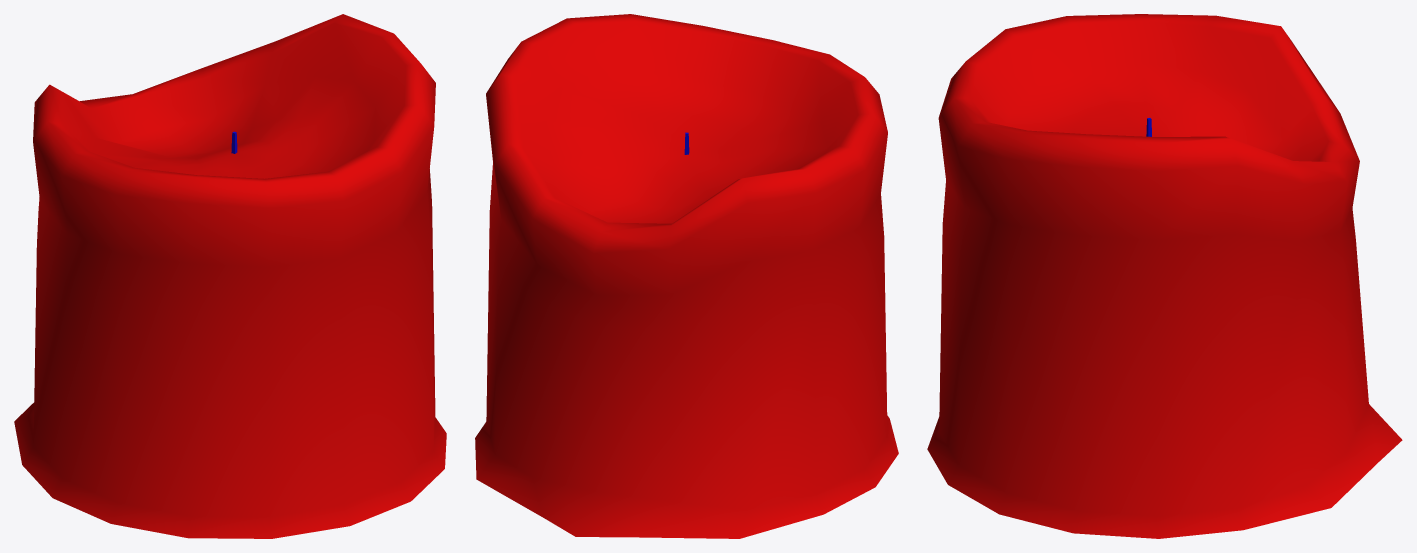
Rendered from Candle_02.FBX.
3 views of the same model, side by side, from view 1: azimuth 30°, elevation 25°; view 2: azimuth 150°, elevation 25°; view 3: azimuth 270°, elevation 25° (orthographic). The views are drawn at different scales.
Parts seen in each view (by area): view 1: Cylinder001; view 2: Cylinder001; view 3: Cylinder001.
Boxes of the visible parts, x1,y1,x2,y2 form: Cylinder001: (14, 14, 446, 538); Cylinder001: (475, 14, 898, 538); Cylinder001: (927, 14, 1402, 538).
Bounding box in the file's own units: 0.0975 × 0.1044 × 0.093.
